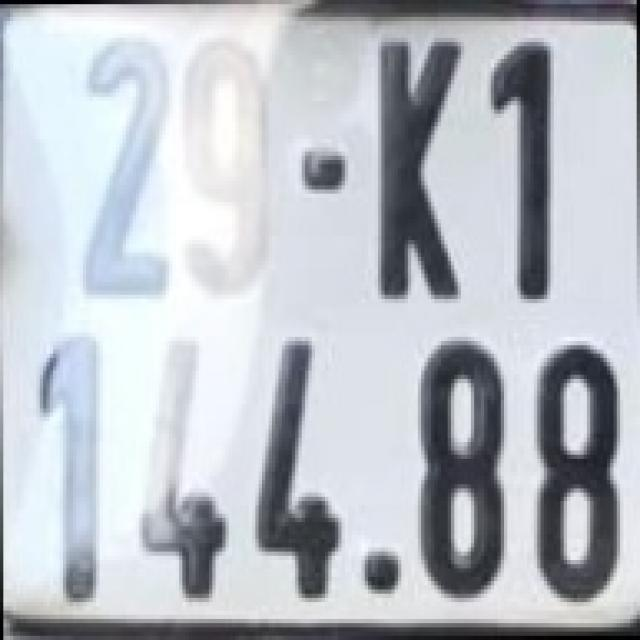1: (30, 328, 113, 606), (487, 34, 564, 304)
2: (76, 34, 176, 304)
4: (136, 328, 232, 602), (252, 332, 345, 602)
8: (414, 332, 510, 602), (530, 337, 624, 602)
9: (179, 38, 265, 295)
K: (372, 25, 468, 308)
